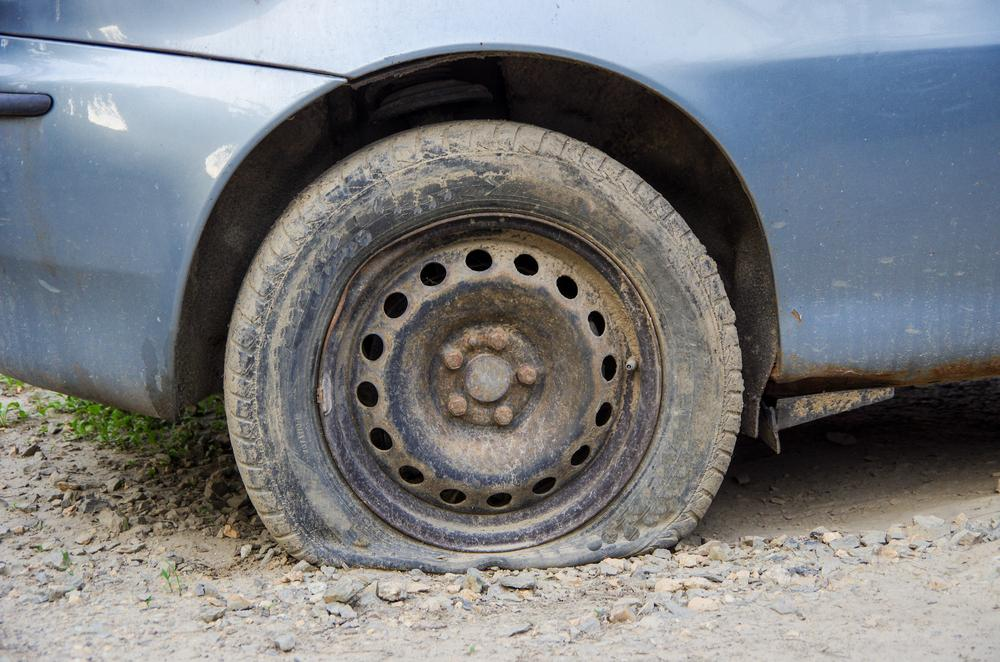tire flat: (223, 118, 743, 569)
